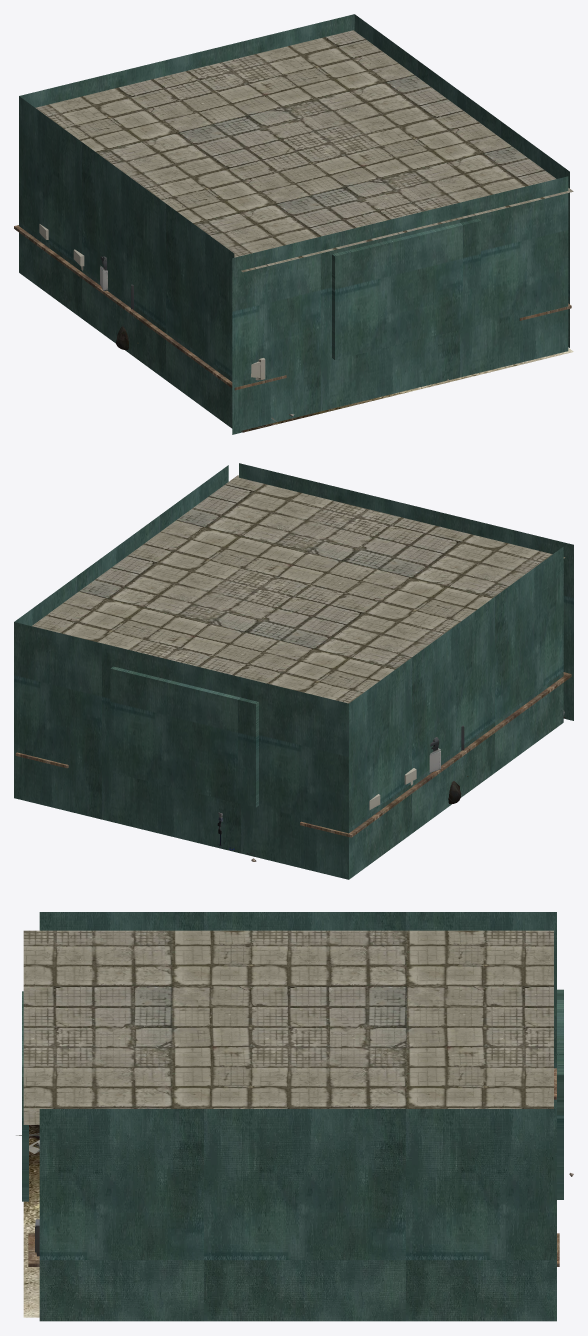
File: env_old_office.glb
3 renders of one model, top to bottom at view 1: azimuth 30°, elevation 25°; view 2: azimuth 150°, elevation 25°; view 3: azimuth 270°, elevation 25°, orthographic. The views are drawn at different scales.
Visible parts, largest first — view 1: Plane.002, Plane.004, Cube, Plane; view 2: Plane.002, Plane.004, Cube; view 3: Plane.002, Plane.004, Plane.
Part boxes in pixels (<box>): Plane.002: <box>19,14,569,434</box>; Plane.004: <box>35,30,573,272</box>; Cube: <box>14,225,286,390</box>; Plane: <box>241,348,573,432</box>; Plane.002: <box>14,463,573,879</box>; Plane.004: <box>32,475,565,703</box>; Cube: <box>300,672,571,837</box>; Plane.002: <box>22,912,563,1321</box>; Plane.004: <box>23,930,553,1124</box>; Plane: <box>23,1125,39,1317</box>.
Size of the model in its own units: 7.24 by 3.63 by 8.52.
Materials: 18 (18 with a texture image).
